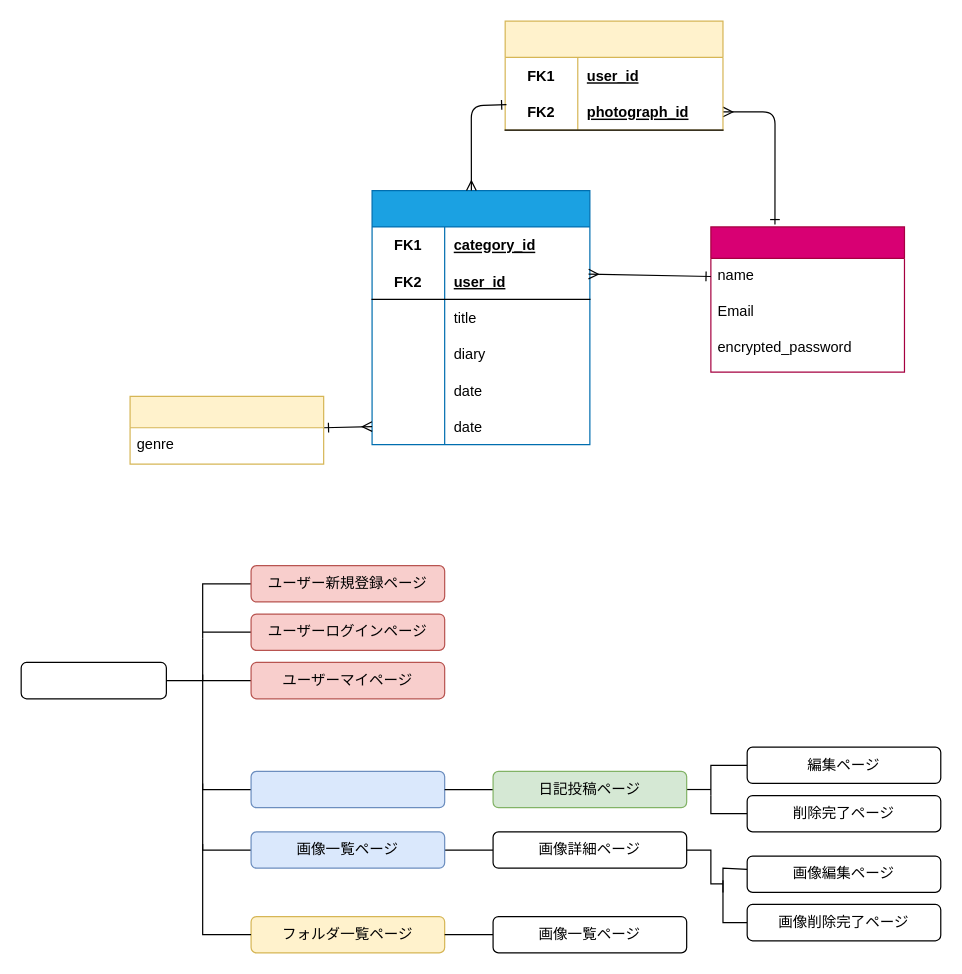
Image size: 962x974. Some labels were removed from this diagram. Here are the shapes that lost their labels. From the top down, the box of each, then its label:
(504, 20, 723, 130): Folders
(371, 189, 590, 445): photographs
(710, 226, 904, 372): Users
(129, 395, 324, 464): categries
(20, 661, 166, 699): 一覧ページ
(250, 770, 445, 808): 画像投稿ページ
